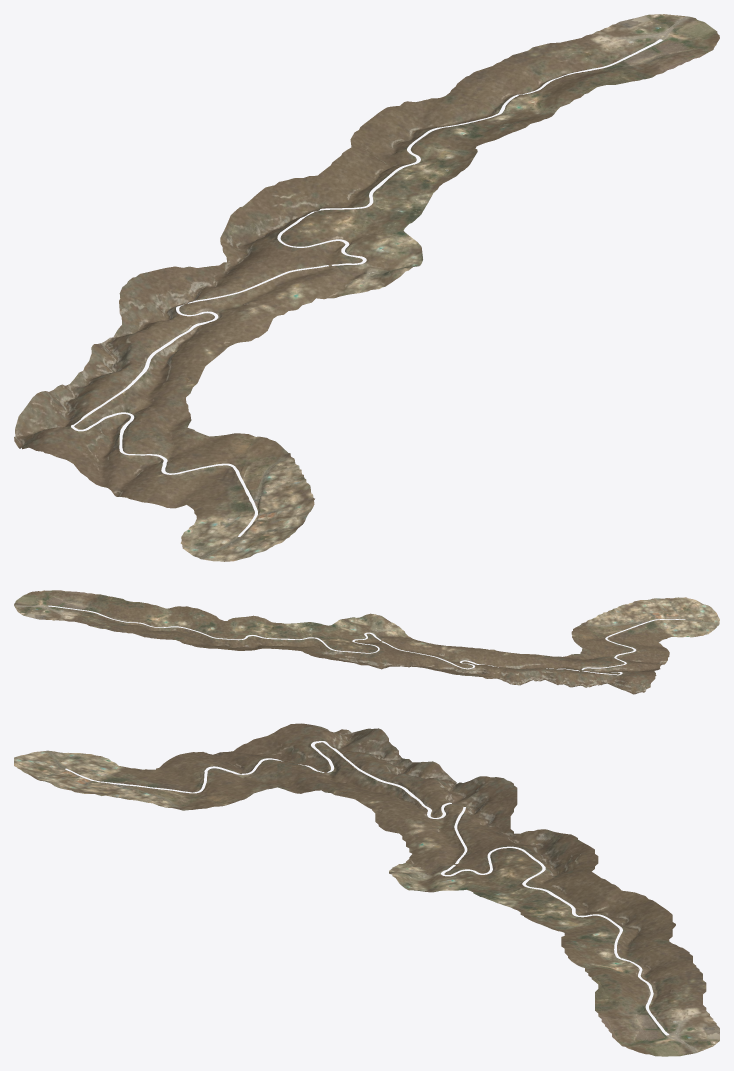
File: terrain_sol.glb
3 renders of one model, top to bottom at view 1: azimuth 30°, elevation 25°; view 2: azimuth 150°, elevation 25°; view 3: azimuth 270°, elevation 25°, orthographic. The views are drawn at different scales.
Parts seen in each view (by area): view 1: dalle_915000_6239500, dalle_916000_6240500, dalle_915000_6240000, dalle_915500_6240000, dalle_916500_6240500, dalle_915500_6240500, dalle_916000_6240000, dalle_917000_6240500, dalle_915000_6239000; view 2: dalle_915000_6239500, dalle_916500_6240500, dalle_916000_6240500, dalle_915000_6240000, dalle_915500_6240000, dalle_917000_6240500, dalle_916000_6240000, dalle_915000_6239000, dalle_915500_6240500, dalle_917000_6241000; view 3: dalle_916000_6240500, dalle_915000_6239500, dalle_915000_6240000, dalle_916500_6240500, dalle_915500_6240000, dalle_915500_6240500, dalle_917000_6240500, dalle_916000_6240000, dalle_915000_6239000, dalle_917000_6241000.
Boxes of the visible parts, box(x1,y1,x2,y2) form: dalle_915000_6239500: box(62, 427, 314, 553); dalle_916000_6240500: box(261, 101, 477, 244); dalle_915000_6240000: box(14, 300, 199, 458); dalle_915500_6240000: box(119, 245, 367, 377); dalle_916500_6240500: box(414, 37, 651, 150); dalle_915500_6240500: box(119, 191, 314, 299); dalle_916000_6240000: box(316, 209, 423, 291); dalle_917000_6240500: box(596, 16, 719, 77); dalle_915000_6239000: box(190, 503, 314, 561); dalle_915000_6239500: box(571, 600, 712, 672); dalle_916500_6240500: box(67, 594, 229, 645); dalle_916000_6240500: box(193, 615, 366, 661); dalle_915000_6240000: box(488, 654, 656, 694); dalle_915500_6240000: box(369, 627, 531, 678); dalle_917000_6240500: box(14, 590, 100, 618); dalle_916000_6240000: box(306, 613, 398, 644); dalle_915000_6239000: box(640, 597, 719, 630); dalle_915500_6240500: box(336, 644, 483, 676); dalle_917000_6241000: box(15, 607, 66, 620); dalle_916000_6240500: box(487, 847, 675, 937); dalle_915000_6239500: box(65, 731, 277, 809); dalle_915000_6240000: box(277, 723, 486, 798); dalle_916500_6240500: box(558, 928, 699, 1014); dalle_915500_6240000: box(342, 776, 489, 870); dalle_915500_6240500: box(487, 777, 591, 864); dalle_917000_6240500: box(595, 1010, 699, 1056); dalle_916000_6240000: box(389, 860, 489, 898); dalle_915000_6239000: box(14, 750, 67, 789); dalle_917000_6241000: box(699, 1011, 719, 1051).
Size of the model in its own units: 2224 by 218 by 1672.
Materials: 12 (12 with a texture image).
